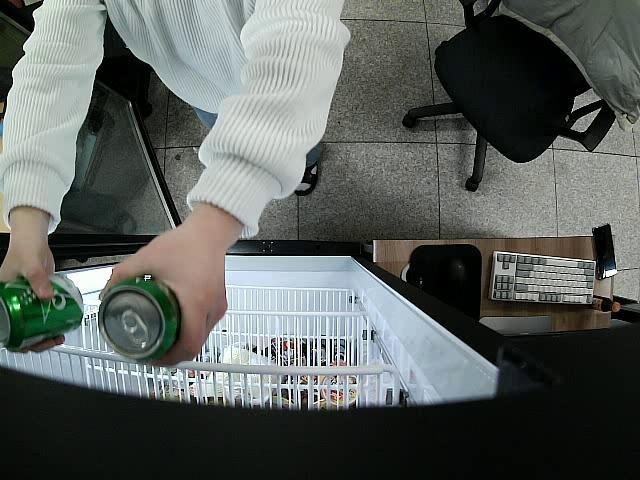12_chilsungCider: (98, 280, 182, 362), (0, 274, 83, 352)
